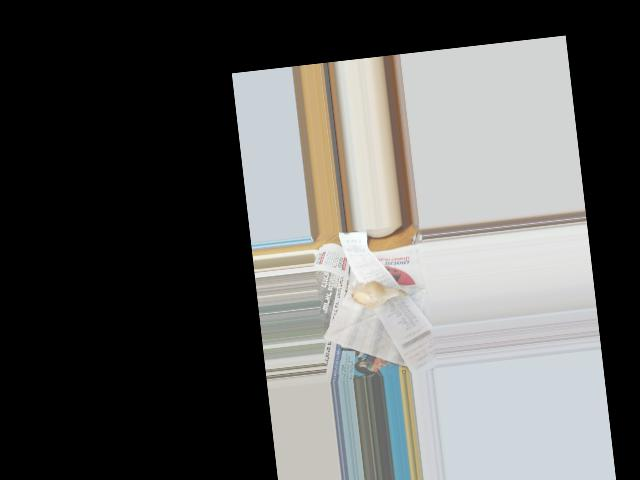onion: (349, 277, 403, 310)
